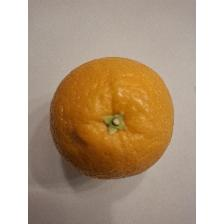Orange: (48, 53, 182, 183)
